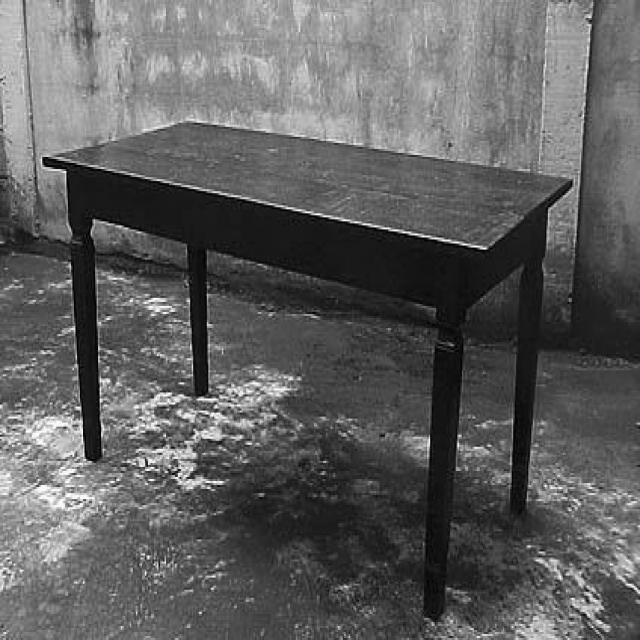table: (42, 120, 572, 622)
